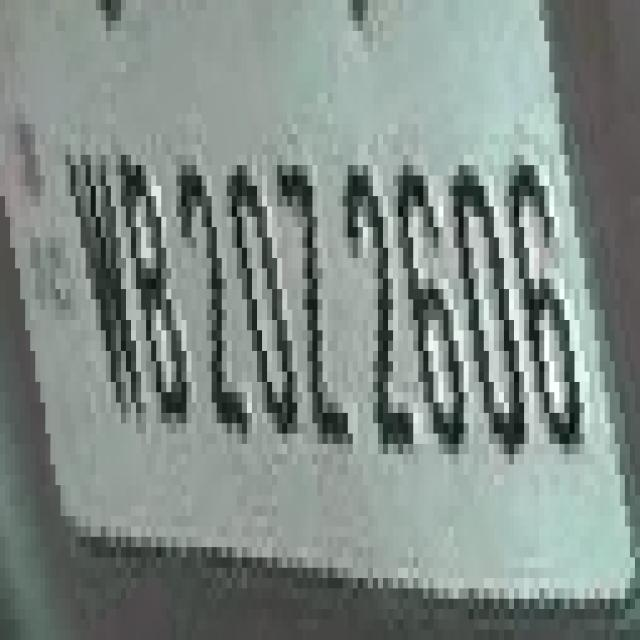license_plate: (20, 0, 640, 578)
